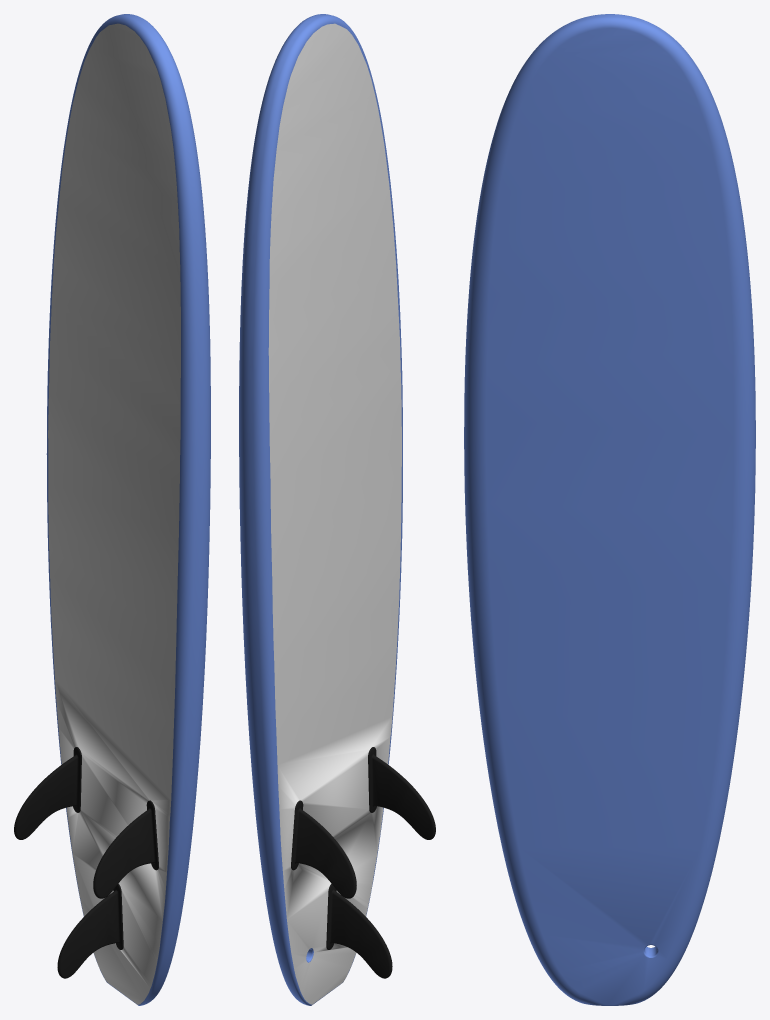
File: board.glb
3 renders of one model, left to right at view 1: azimuth 30°, elevation 25°; view 2: azimuth 150°, elevation 25°; view 3: azimuth 270°, elevation 25°, orthographic. The views are drawn at different scales.
Parts seen in each view (by area): view 1: BOARD 1; view 2: BOARD 1; view 3: BOARD 1.
Part boxes in pixels (<box>): BOARD 1: <box>14,14,210,1005</box>; BOARD 1: <box>239,14,435,1005</box>; BOARD 1: <box>464,14,755,1005</box>.
Bounding box in the file's own units: 0.2195 × 2.13 × 0.5685.
